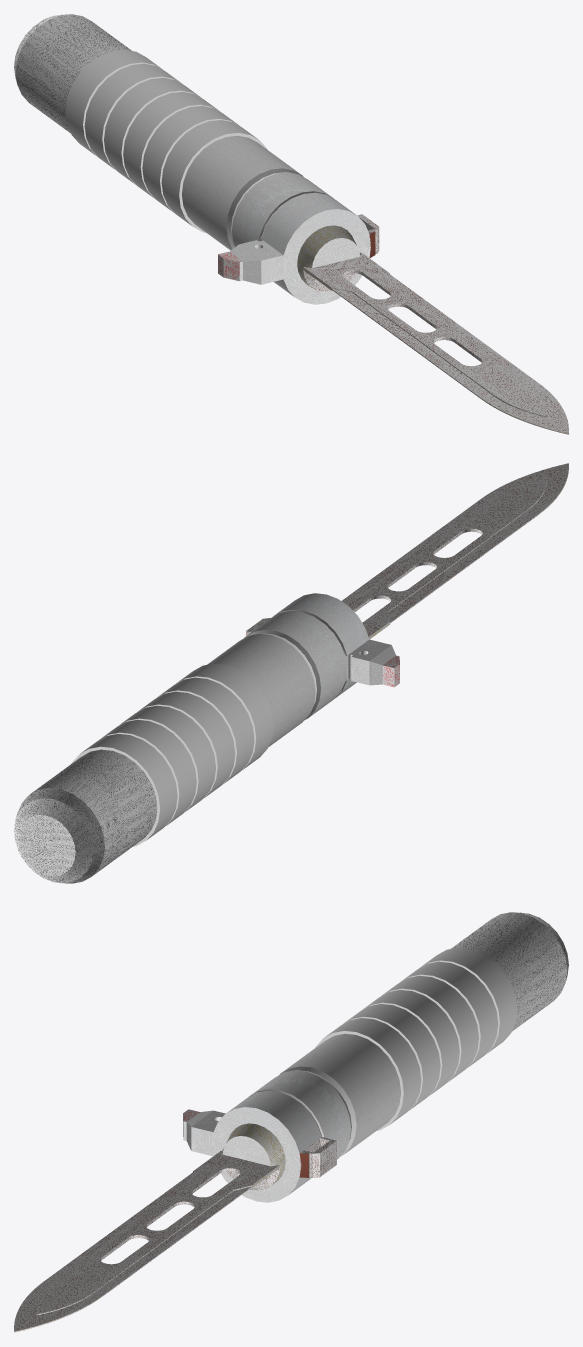
The model's file is model_scale.obj.
3 views of the same model, one above another, from view 1: azimuth 30°, elevation 25°; view 2: azimuth 150°, elevation 25°; view 3: azimuth 330°, elevation 25° (orthographic).
Parts seen in each view (by area): view 1: mesh1_mesh1-geometry; view 2: mesh1_mesh1-geometry; view 3: mesh1_mesh1-geometry.
Part boxes in pixels (x1,y1,x2,y2): mesh1_mesh1-geometry: (14, 14, 568, 434); mesh1_mesh1-geometry: (14, 463, 568, 883); mesh1_mesh1-geometry: (14, 912, 568, 1332).
Bounding box in the file's own units: 0.0385 × 0.0249 × 0.2375.
